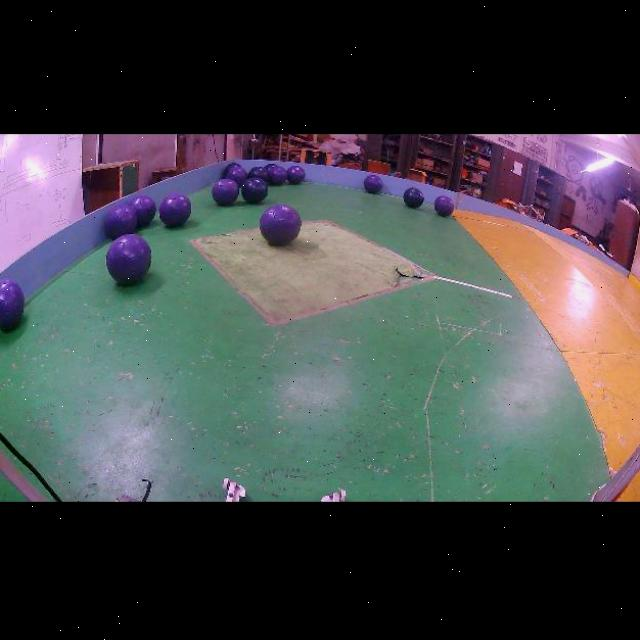B: (241, 178, 268, 204), (403, 188, 424, 208), (220, 162, 239, 179), (248, 166, 269, 181)
P: (107, 234, 151, 285), (260, 204, 301, 245), (0, 279, 25, 331), (105, 204, 137, 239), (159, 194, 191, 227), (130, 196, 156, 227), (211, 179, 239, 206), (225, 166, 247, 188), (434, 196, 454, 217), (363, 175, 383, 194), (287, 166, 306, 185), (269, 166, 287, 186)
